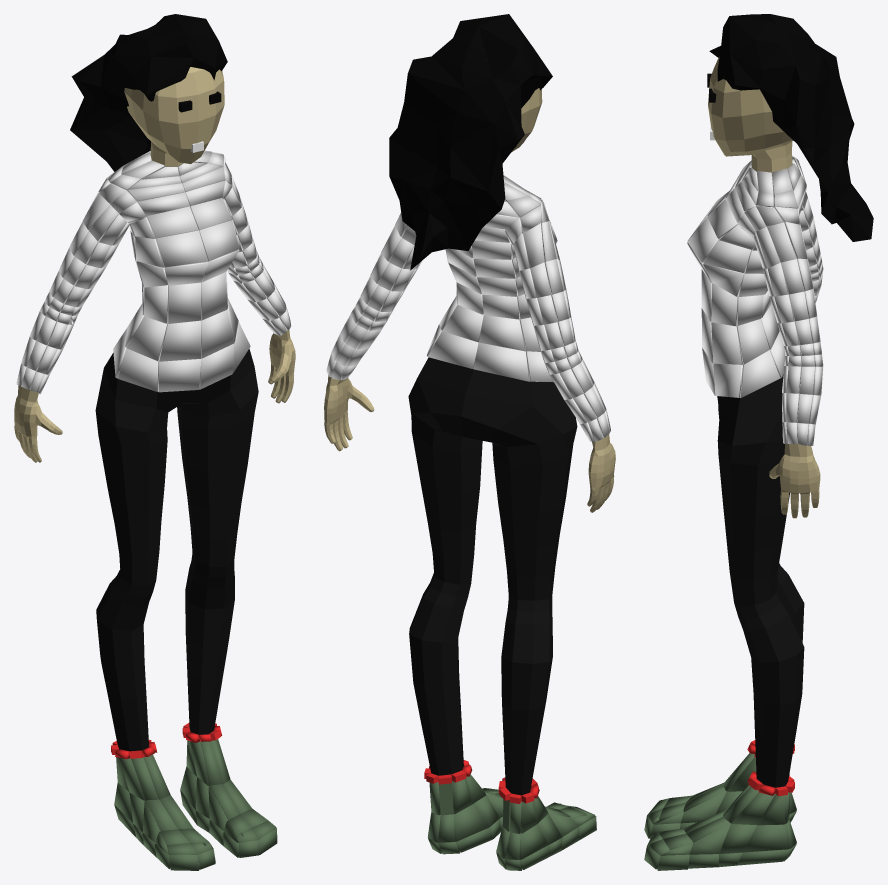
File: mujer.fbx
3 renders of one model, left to right at view 1: azimuth 30°, elevation 25°; view 2: azimuth 150°, elevation 25°; view 3: azimuth 270°, elevation 25°, orthographic. The views are drawn at different scales.
Visible parts, largest first — view 1: Cube.003__0, Cube.003__0.003, Cube.003__0.005, Esfera.001, Cube.003__0.004; view 2: Cube.003__0, Cube.003__0.003, Esfera.001, Cube.003__0.005, Cube.003__0.004; view 3: Cube.003__0, Cube.003__0.003, Esfera.001, Cube.003__0.005, Cube.003__0.004.
Part boxes in pixels (x1,y1,x2,y2): Cube.003__0: (14,67,295,841); Cube.003__0.003: (16,150,290,394); Cube.003__0.005: (114,739,277,870); Esfera.001: (70,14,227,171); Cube.003__0.004: (111,723,221,759); Cube.003__0: (324,88,615,851); Cube.003__0.003: (326,175,610,441); Esfera.001: (389,14,552,270); Cube.003__0.005: (428,774,596,870); Cube.003__0.004: (424,760,539,804); Cube.003__0: (656,56,820,854); Cube.003__0.003: (687,155,823,445); Esfera.001: (709,14,873,241); Cube.003__0.005: (644,753,796,870); Cube.003__0.004: (747,740,794,796).
Size of the model in its own units: 147 by 418 by 105.
